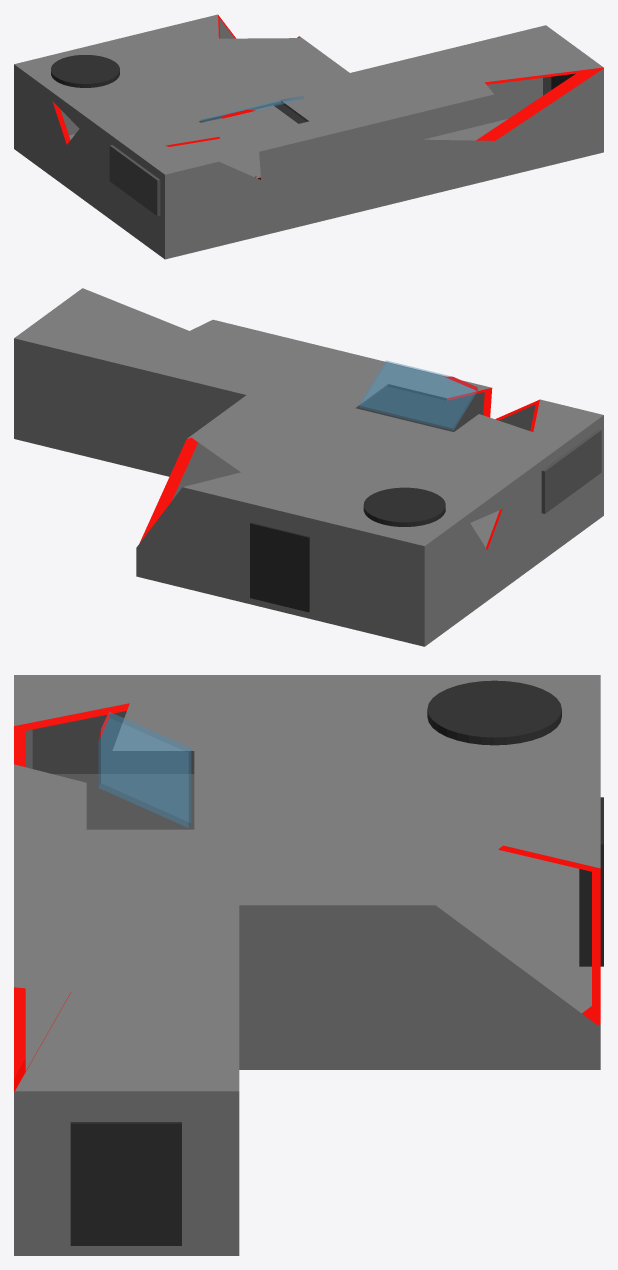
The model's file is Lab.fbx.
3 views of the same model, one above another, from view 1: azimuth 30°, elevation 25°; view 2: azimuth 150°, elevation 25°; view 3: azimuth 270°, elevation 25° (orthographic). The views are drawn at different scales.
Parts seen in each view (by area): view 1: Lab; view 2: Lab; view 3: Lab.
Part boxes in pixels (x1,y1,x2,y2): Lab: (14,14,603,259); Lab: (14,288,603,646); Lab: (14,675,603,1255).
Bounding box in the file's own units: 54.75 × 12.72 × 32.47.
